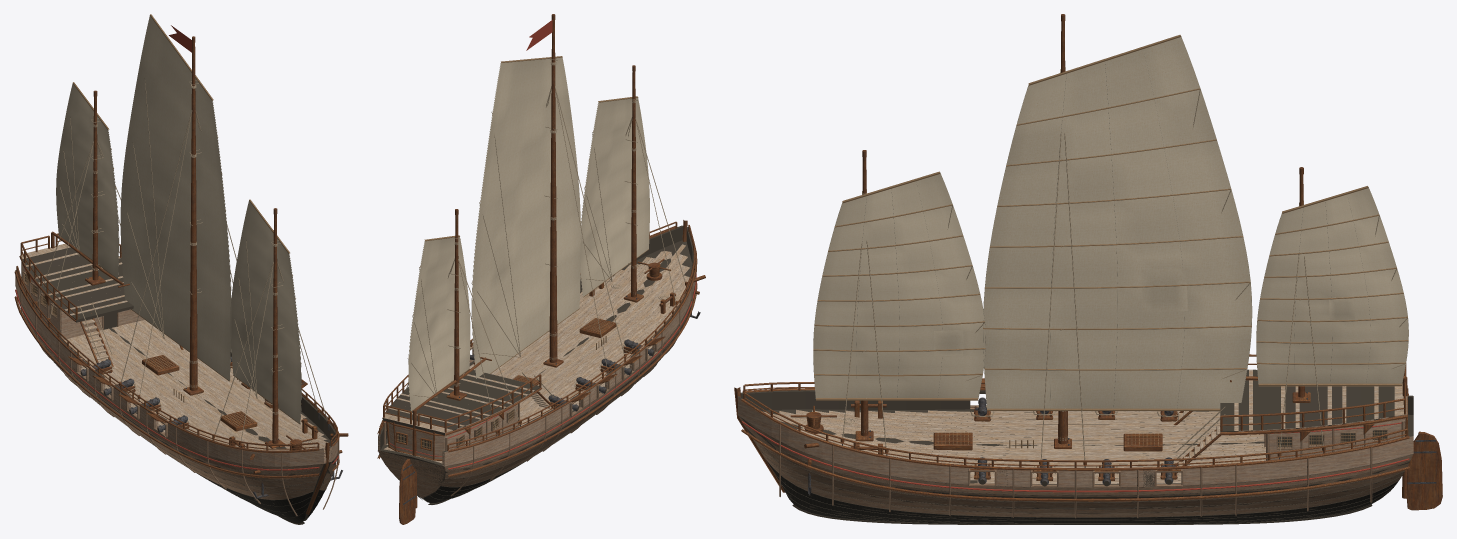
The model's file is fuchuan-lod1.glb.
3 renders of one model, left to right at view 1: azimuth 30°, elevation 25°; view 2: azimuth 150°, elevation 25°; view 3: azimuth 270°, elevation 25°, orthographic. The views are drawn at different scales.
Parts seen in each view (by area): view 1: sail_1, hull, deck, sail_0, sail_2, shadow_deck, deck_fittings, bulwark_rails, mast_timber_1, shadow_hull, sterncastle, mast_timber_0 (+6 smaller); view 2: sail_1, deck, hull, sail_0, sail_2, shadow_deck, deck_fittings, shadow_hull, bulwark_rails, mast_timber_1, mast_timber_0, stern_transom (+7 smaller); view 3: sail_1, hull, sail_0, sail_2, deck, shadow_hull, shadow_deck, bulwark_rails, deck_fittings, rudder_blade, sterncastle, rigging_1.
Part boxes in pixels (x1,y1,x2,y2): sail_1: [120, 14, 231, 381]; hull: [14, 270, 339, 524]; deck: [19, 243, 329, 450]; sail_0: [230, 199, 301, 424]; sail_2: [56, 82, 119, 278]; shadow_deck: [22, 247, 133, 322]; deck_fittings: [21, 262, 348, 498]; bulwark_rails: [16, 233, 337, 450]; mast_timber_1: [189, 43, 197, 390]; shadow_hull: [15, 270, 335, 521]; sterncastle: [23, 266, 144, 339]; mast_timber_0: [272, 214, 278, 443]; sail_1: [471, 56, 580, 378]; deck: [382, 244, 689, 463]; hull: [377, 220, 697, 504]; sail_0: [580, 96, 649, 297]; sail_2: [407, 235, 470, 411]; shadow_deck: [383, 369, 540, 435]; deck_fittings: [383, 259, 705, 460]; shadow_hull: [378, 225, 693, 502]; bulwark_rails: [379, 221, 695, 450]; mast_timber_1: [549, 20, 557, 362]; mast_timber_0: [631, 71, 636, 297]; stern_transom: [388, 423, 444, 459]; sail_1: [983, 35, 1252, 411]; hull: [734, 387, 1413, 524]; sail_0: [813, 171, 985, 400]; sail_2: [1256, 186, 1408, 386]; deck: [763, 369, 1407, 483]; shadow_hull: [738, 390, 1413, 523]; shadow_deck: [1220, 369, 1394, 432]; bulwark_rails: [743, 354, 1408, 467]; deck_fittings: [790, 385, 1407, 494]; rudder_blade: [1406, 431, 1442, 510]; sterncastle: [1266, 418, 1404, 460]; rigging_1: [1039, 133, 1086, 473].
Size of the model in its own units: 10.4 by 26.66 by 33.57.
Materials: 13 (8 with a texture image).
